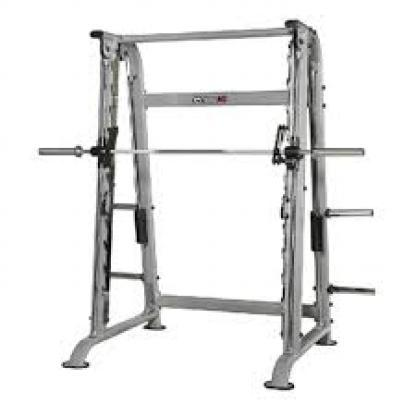smith machine: (37, 20, 377, 393)
